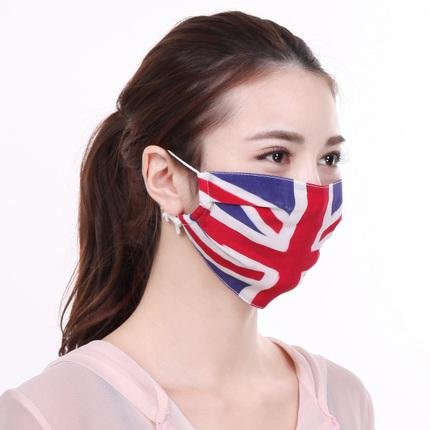OK: (188, 126, 351, 289)
